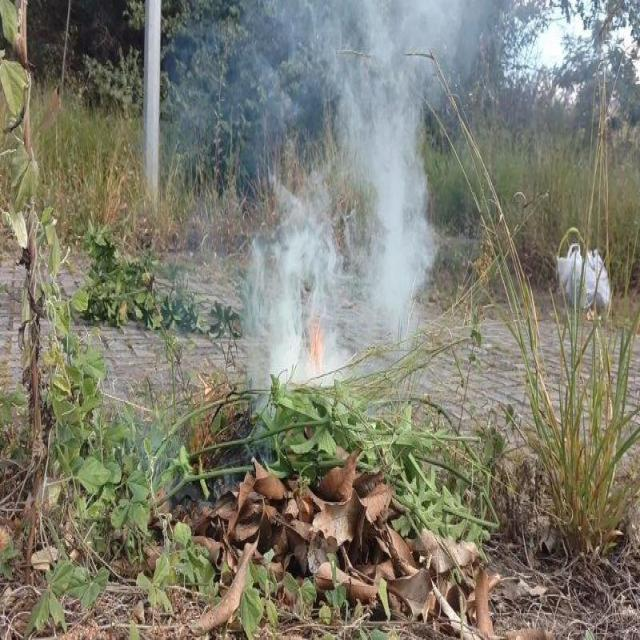Smoke: (360, 11, 428, 339), (264, 205, 338, 375)
